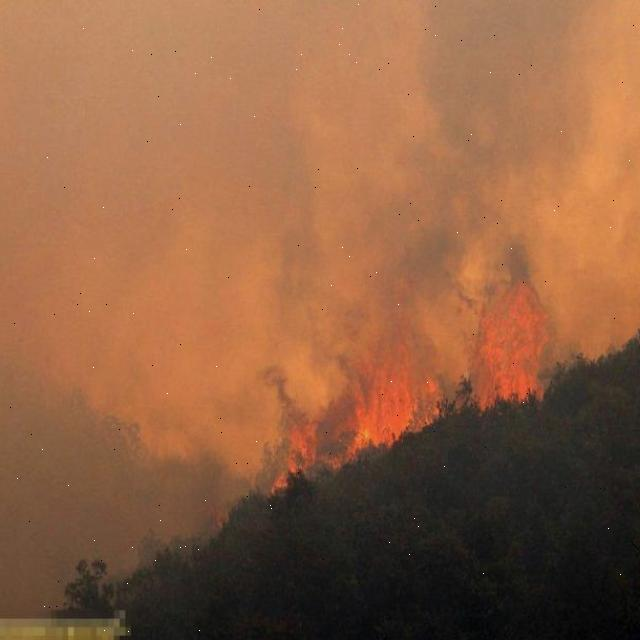fire: (276, 286, 540, 492)
